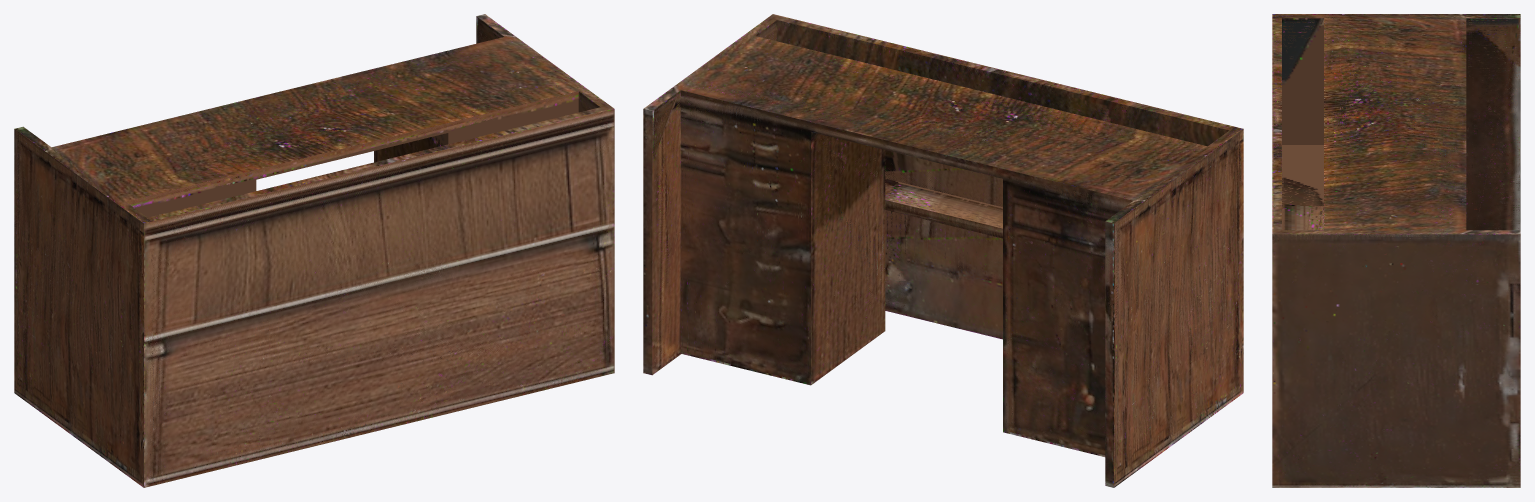
File: test_desk_oringin.obj
The picture shows the model from 3 angles, left to right: view 1: azimuth 30°, elevation 25°; view 2: azimuth 150°, elevation 25°; view 3: azimuth 270°, elevation 25°; orthographic projection. The views are drawn at different scales.
Bounding box in the file's own units: 0.7571 × 0.4167 × 0.3608.
1 material, 1 textured.
